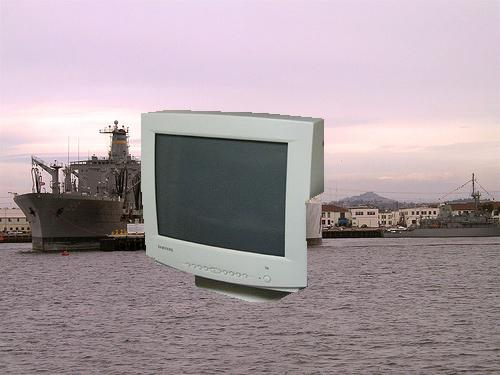tampered: (142, 111, 324, 302)
